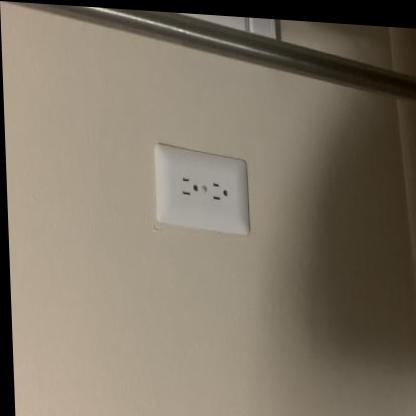OUTLET: (153, 151, 250, 232)
